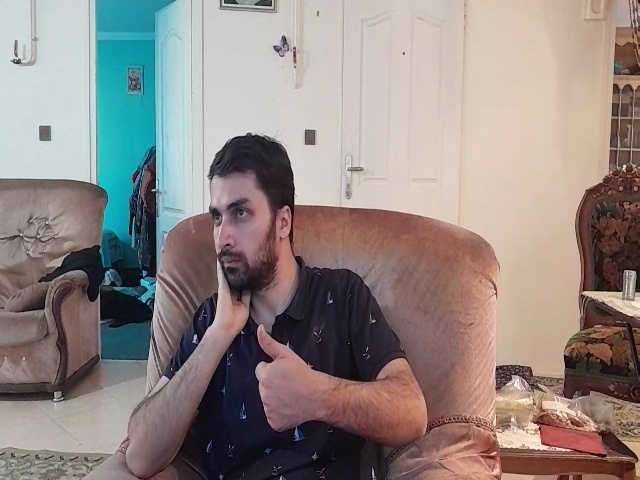ThumbsUp: (252, 325, 332, 433)
